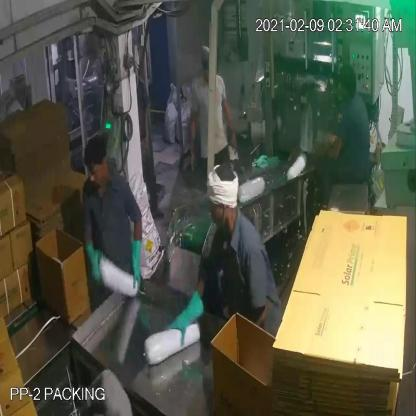glove: (160, 280, 210, 350), (76, 227, 110, 295), (119, 229, 148, 295)
no_glove: (180, 88, 202, 186), (218, 76, 242, 160), (312, 116, 352, 165)
